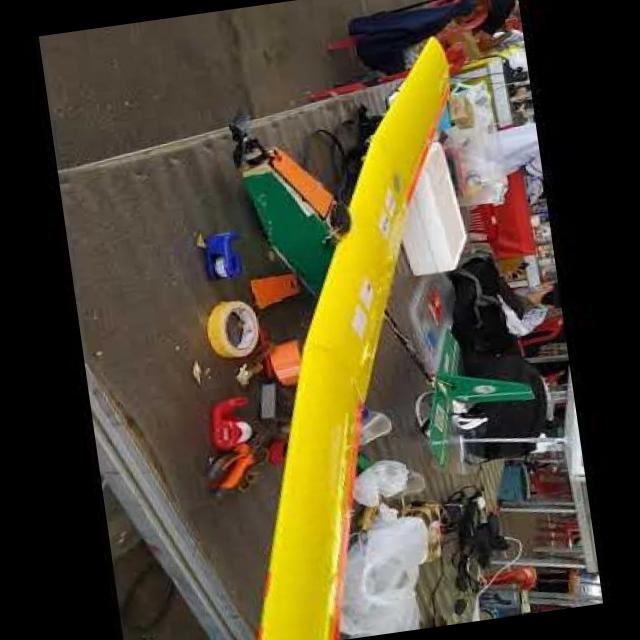UAV: (120, 47, 558, 601)
